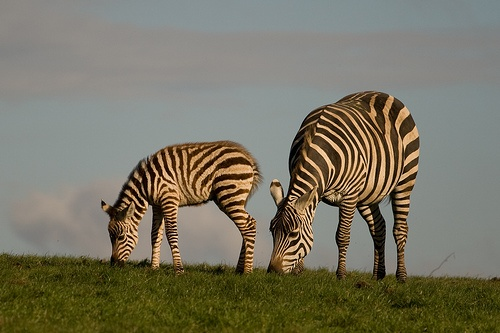zebra: (268, 92, 421, 284), (102, 141, 264, 275)
